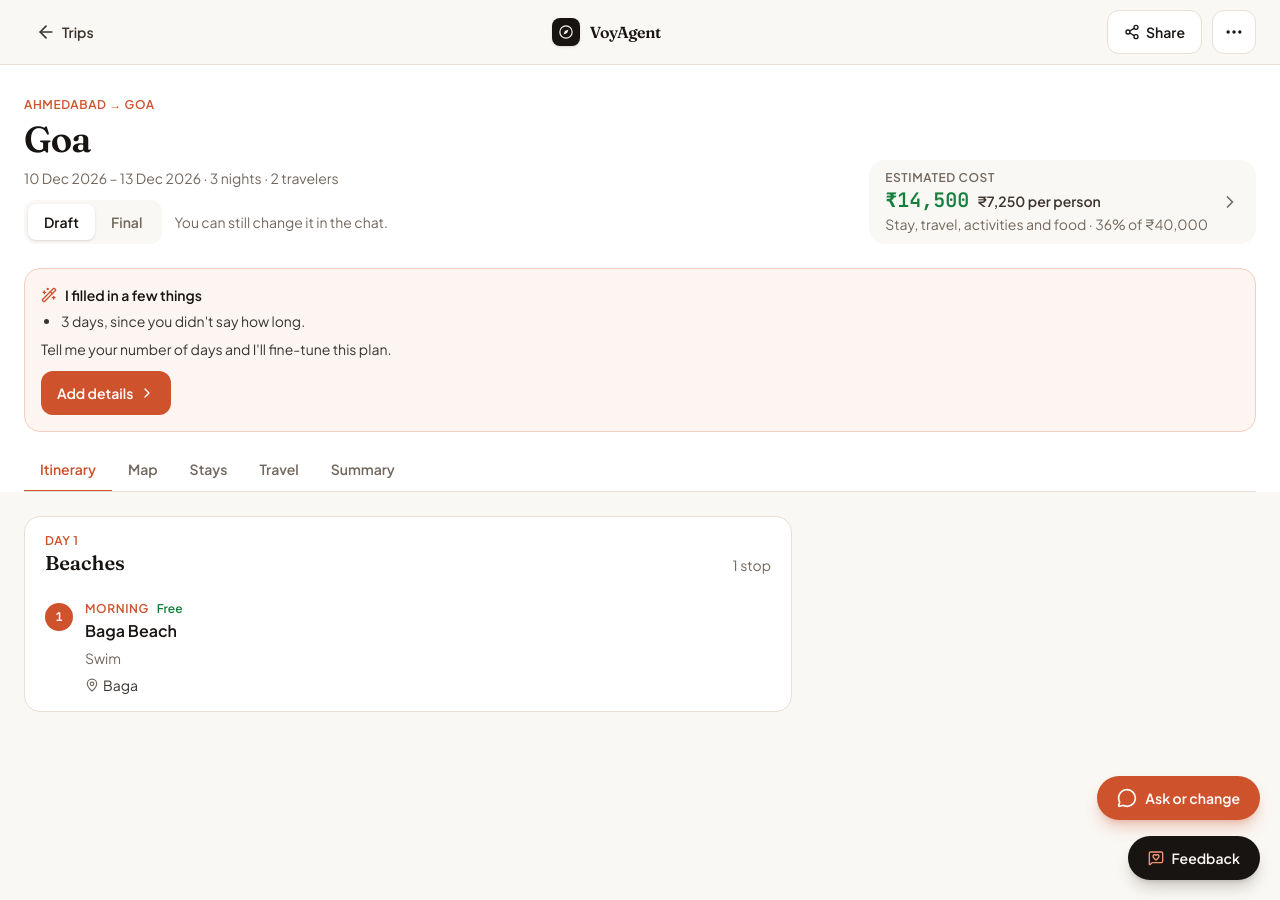
Trip page actions › locks the plan when switched to Final: no chat until it is a Draft again
Expected: the button "Ask or change" is shown, [1097,776,1260,820]
Click the button "Final": {"x": 127, "y": 222} [95,204,158,240]
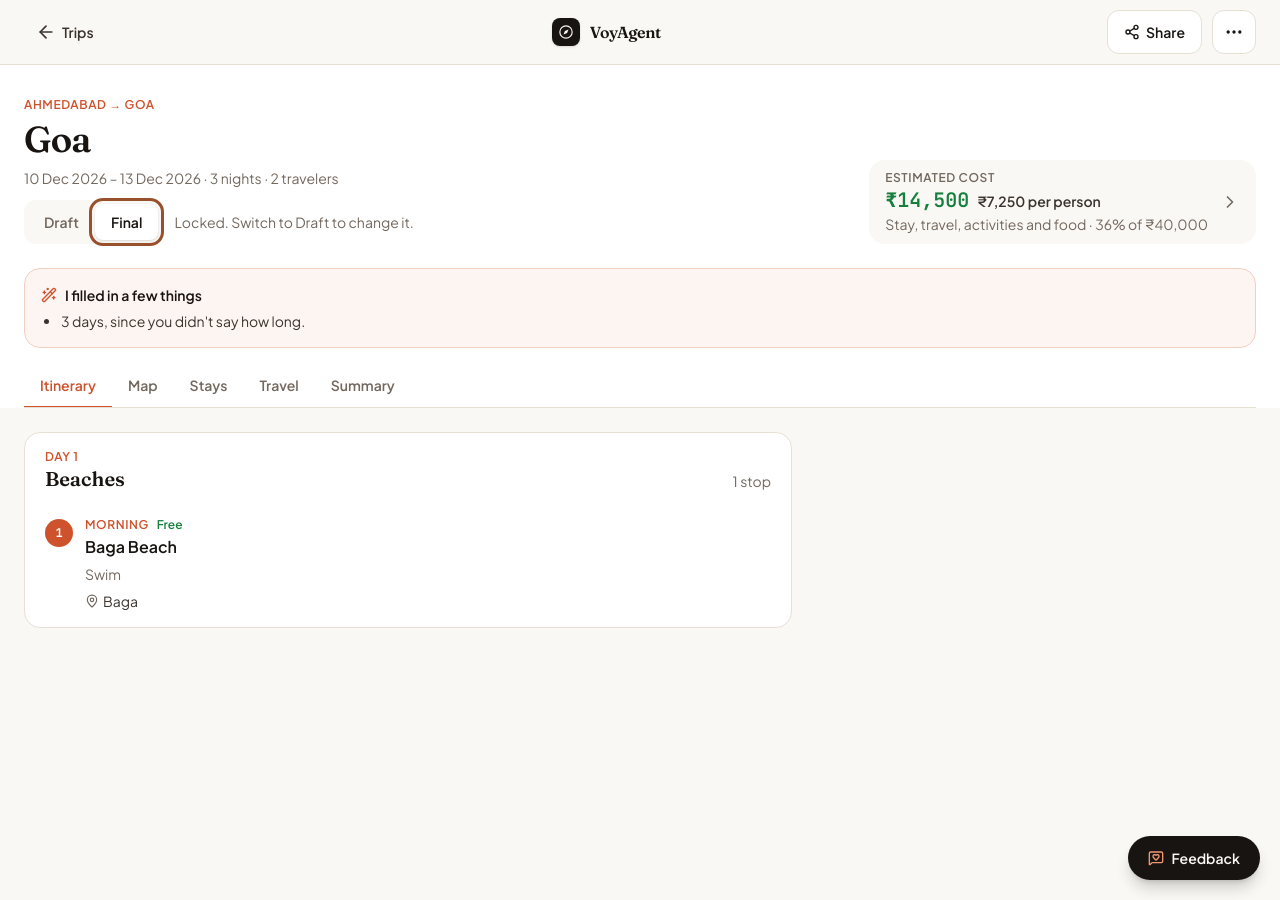
Expected: the button "Ask or change" is gone
Expected: the button "Add details" is gone
Click the button "Draft": {"x": 62, "y": 222} [28,204,95,240]
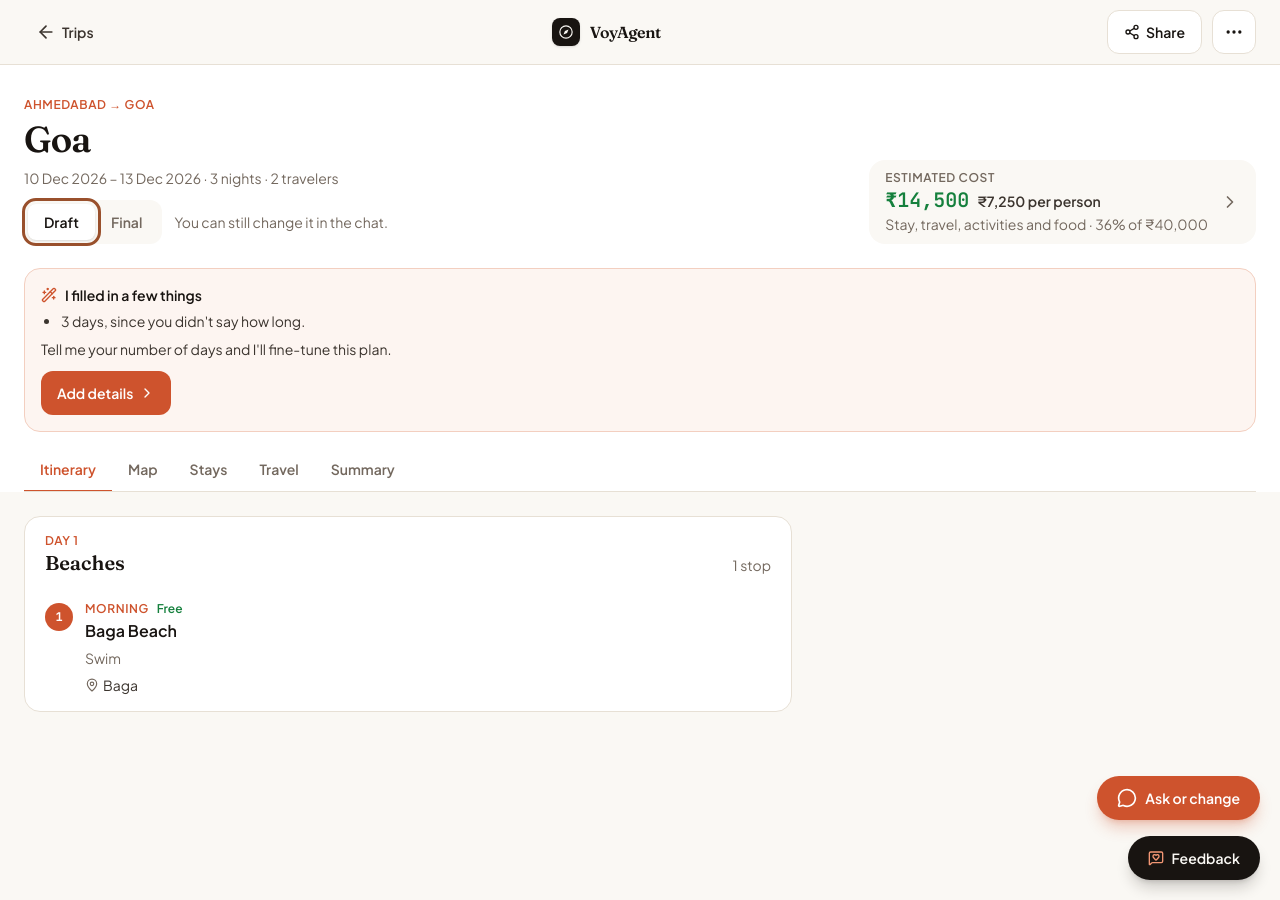
Expected: the button "Ask or change" is shown, [1097,776,1260,820]
